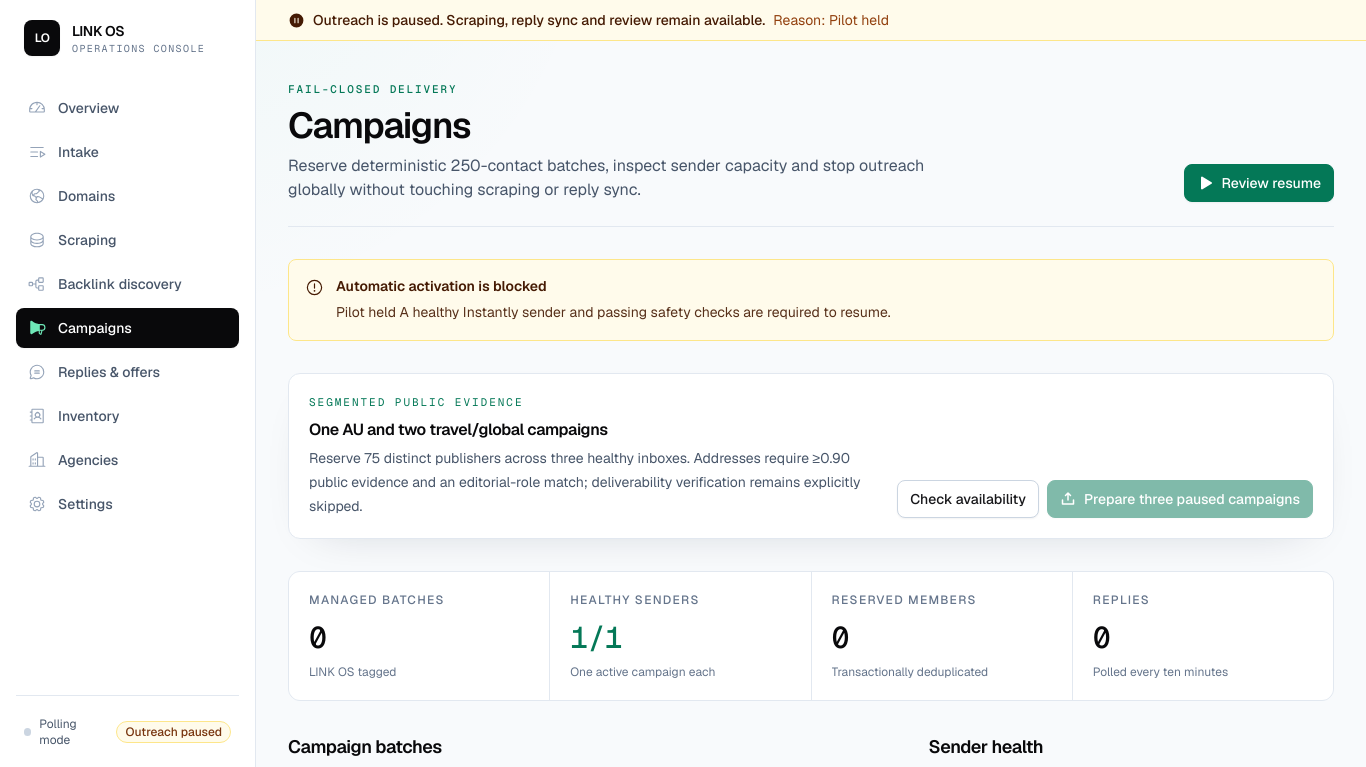
Test: LINK OS console › requires confirmation before requesting a safe outreach resume
Click the button "Review resume" at (1259, 182), box [1184, 164, 1334, 202]
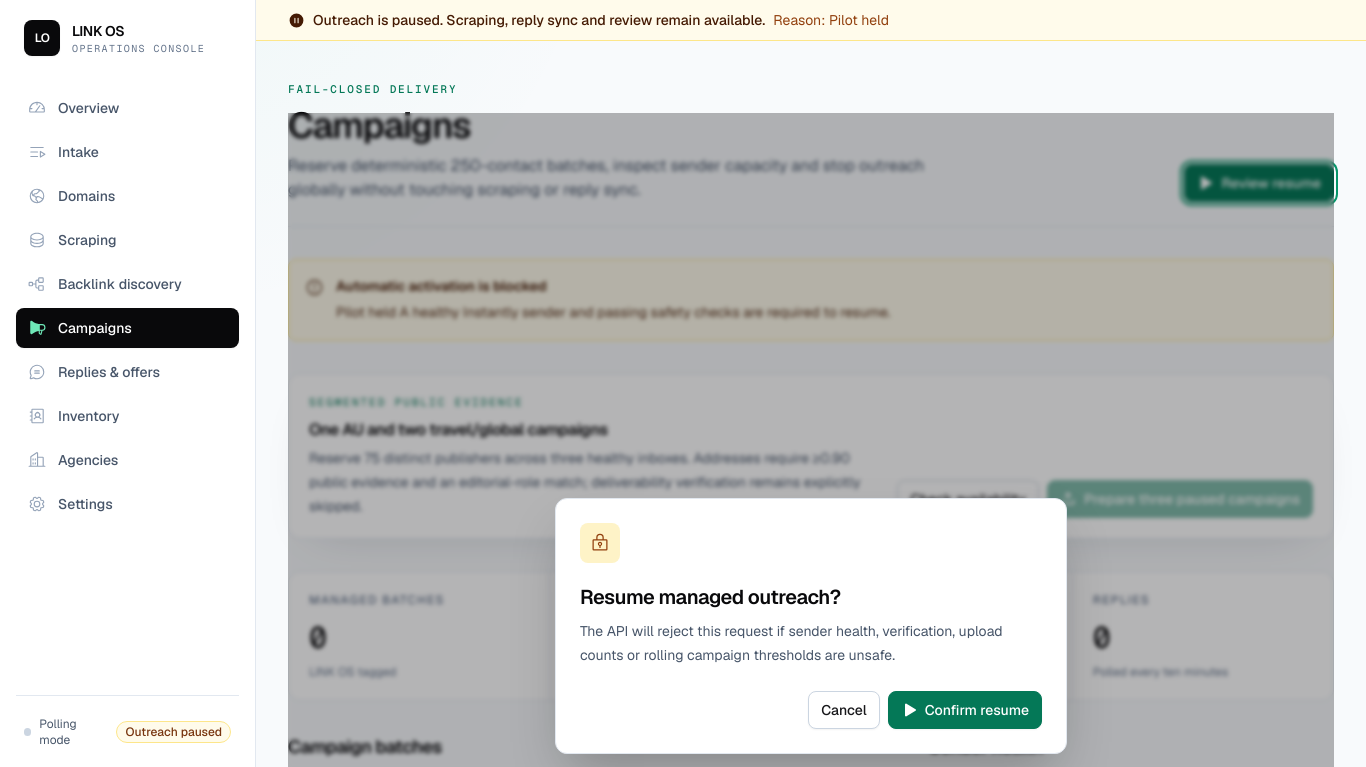
Click the button "Confirm resume" at (965, 710), box [888, 691, 1042, 729]
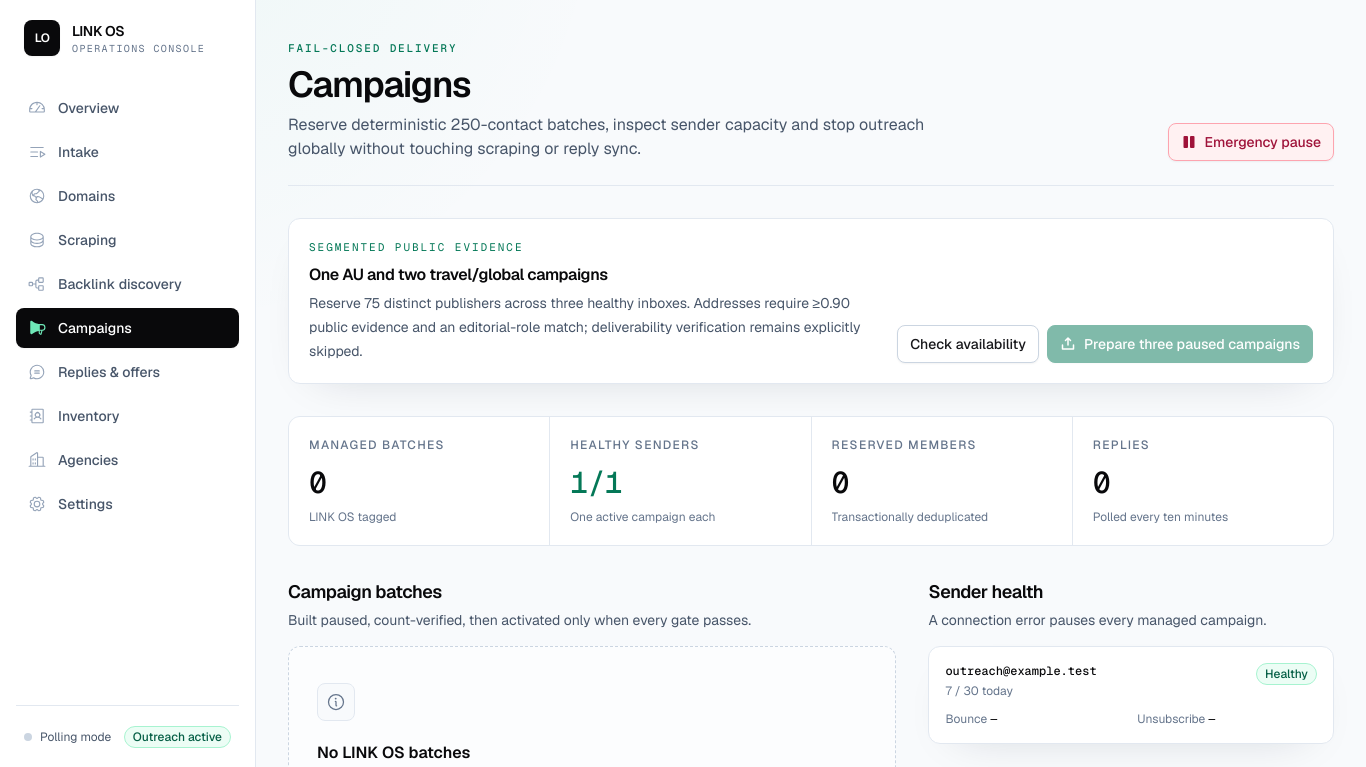
Result: the text "Outreach is paused. Scraping, reply sync and review remain available" is gone
